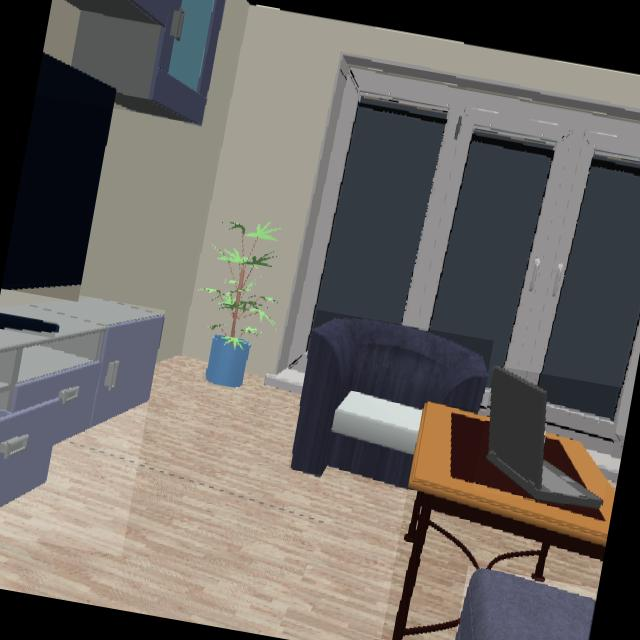cabinet: (0, 298, 163, 507), (65, 0, 224, 123)
laptop: (487, 366, 601, 511)
monitor: (1, 53, 115, 289), (0, 313, 56, 333)
sofa: (291, 318, 487, 488), (456, 570, 595, 640)
table: (391, 401, 614, 640)
